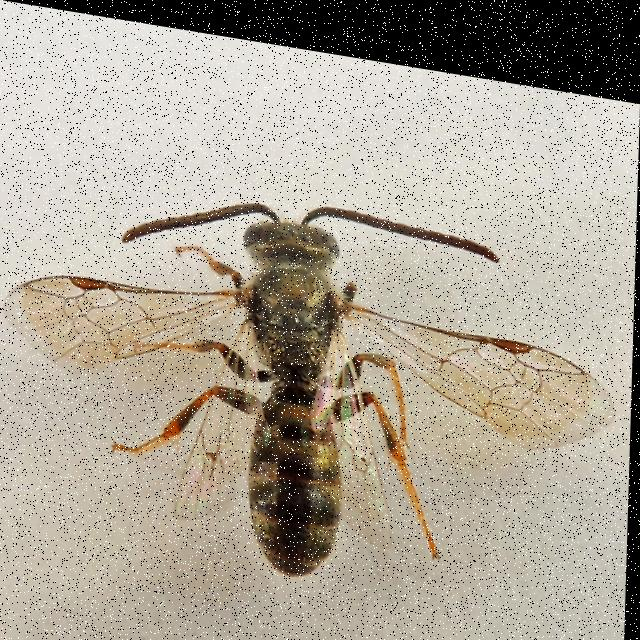Lasioglossum: (2, 112, 623, 622)
